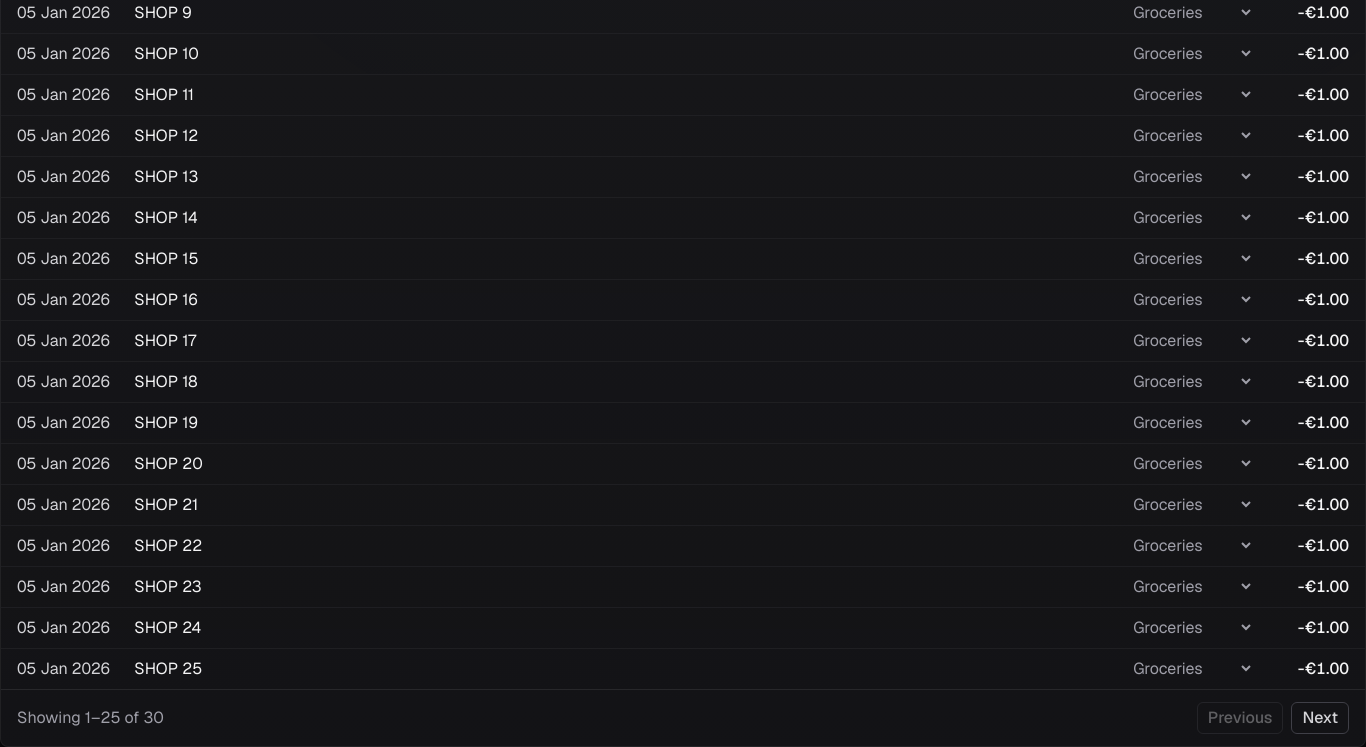
Test: AccountTransactions › pages through long lists and resets to page 1 when filtering
(page scrolled)
Expected: the text "Showing 1–25 of 30" is shown, x1=17 y1=706 x2=164 y2=730
Expected: the button with aria-label "Previous page" is disabled, x1=1197 y1=702 x2=1283 y2=734
Step 1. Click the button with aria-label "Next page" → (1320, 718), box x1=1291 y1=702 x2=1349 y2=734
(page scrolled)
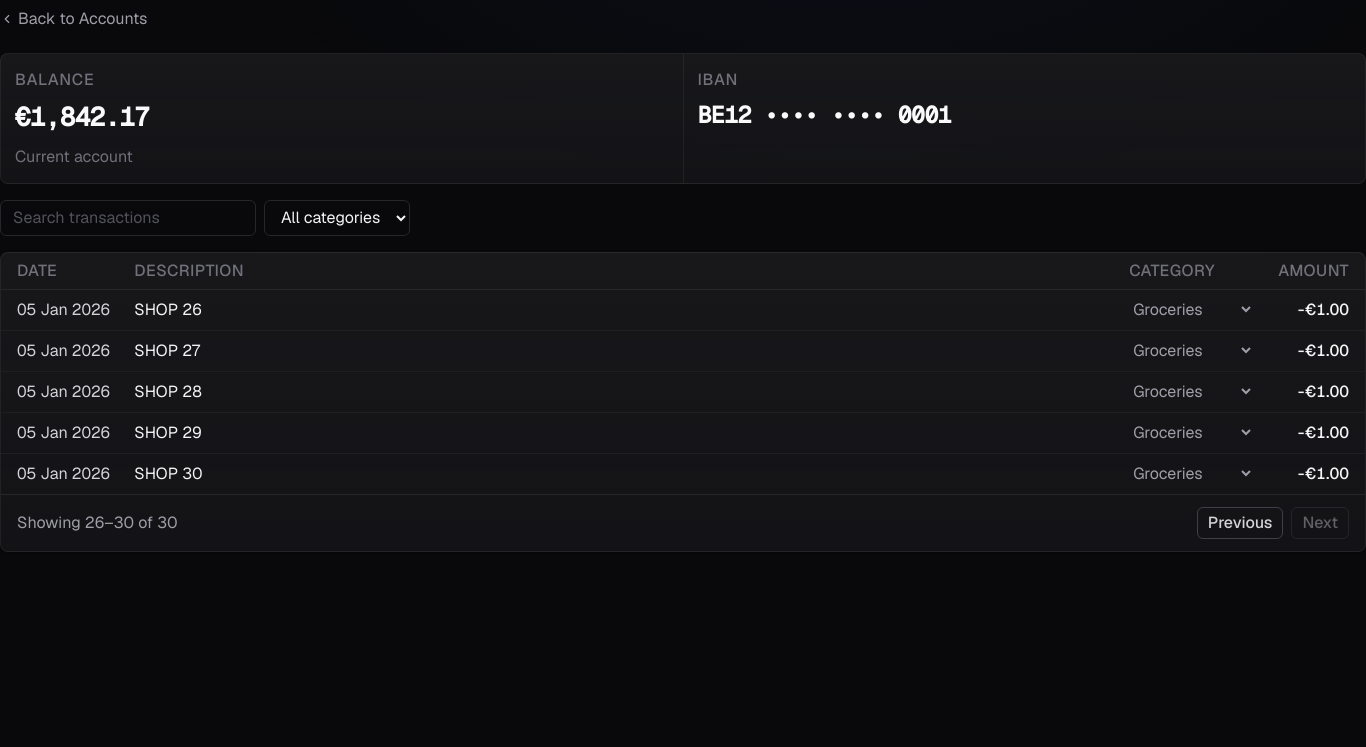
Expected: the text "Showing 26–30 of 30" is shown, x1=17 y1=511 x2=178 y2=535
Expected: the button with aria-label "Next page" is disabled, x1=1291 y1=507 x2=1349 y2=539
Step 2. Type "shop" into the field labelled "Search transactions" → (128, 218), box x1=0 y1=200 x2=256 y2=236
(page scrolled)
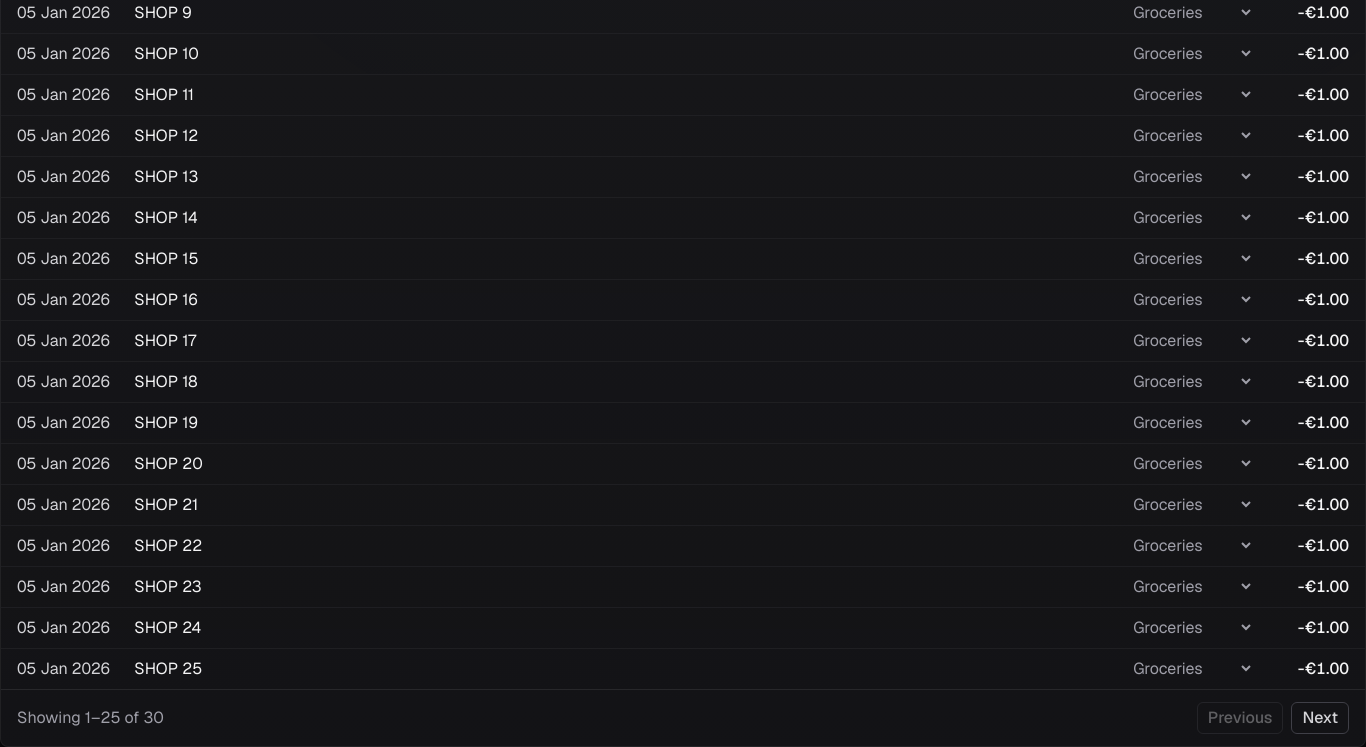
Expected: the text "Showing 1–25 of 30" is shown, x1=17 y1=706 x2=164 y2=730
